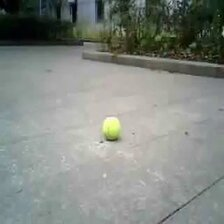tennis: (102, 116, 120, 139)
